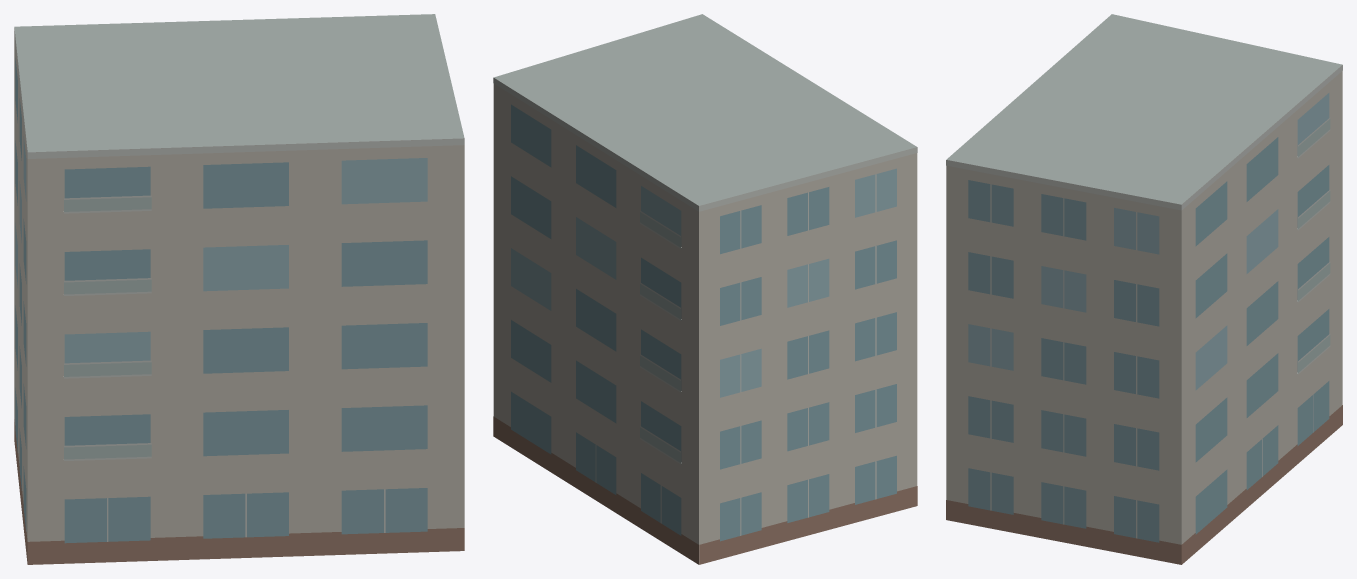
Rendered from survey-upis-32852753.glb.
3 renders of one model, left to right at view 1: azimuth 30°, elevation 25°; view 2: azimuth 150°, elevation 25°; view 3: azimuth 270°, elevation 25°, orthographic. The views are drawn at different scales.
Parts seen in each view (by area): view 1: survey-upis-32852753.tmp; view 2: survey-upis-32852753.tmp; view 3: survey-upis-32852753.tmp.
Boxes of the visible parts, bbox=[...] form: survey-upis-32852753.tmp: bbox=[14, 14, 464, 564]; survey-upis-32852753.tmp: bbox=[493, 14, 917, 564]; survey-upis-32852753.tmp: bbox=[946, 14, 1342, 564].
Size of the model in its own units: 17.04 by 15 by 14.98.
